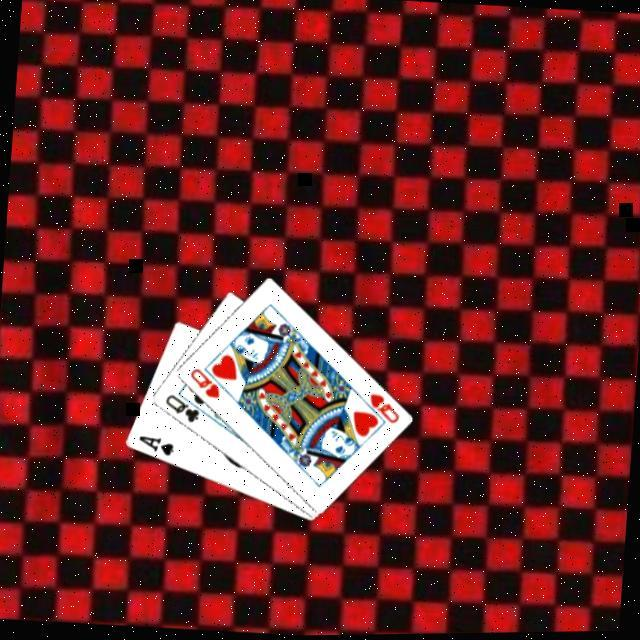AS: (132, 432, 175, 460)
QC: (159, 392, 202, 428)
QH: (354, 390, 402, 430), (184, 366, 222, 402)
